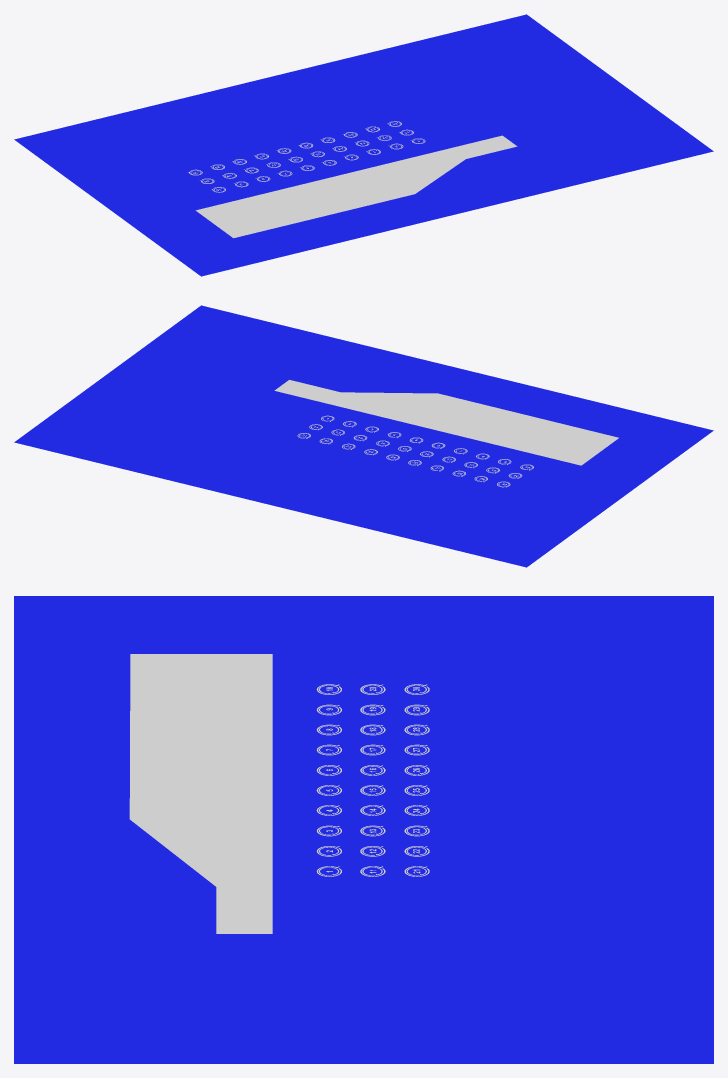
The model's file is ESC_VV_CarpetPlusSpots_v02.FBX.
3 views of the same model, one above another, from view 1: azimuth 30°, elevation 25°; view 2: azimuth 150°, elevation 25°; view 3: azimuth 270°, elevation 25° (orthographic). The views are drawn at different scales.
Parts seen in each view (by area): view 1: CarpetAndSpots, Line024; view 2: CarpetAndSpots, Line024; view 3: CarpetAndSpots, Line024.
Boxes of the visible parts, x1,y1,x2,y2 form: CarpetAndSpots: [14, 14, 713, 276]; Line024: [195, 135, 517, 238]; CarpetAndSpots: [14, 305, 713, 567]; Line024: [274, 380, 618, 465]; CarpetAndSpots: [14, 596, 713, 1063]; Line024: [129, 654, 272, 933].
Bounding box in the file's own units: 755 × 0.00432 × 477.
